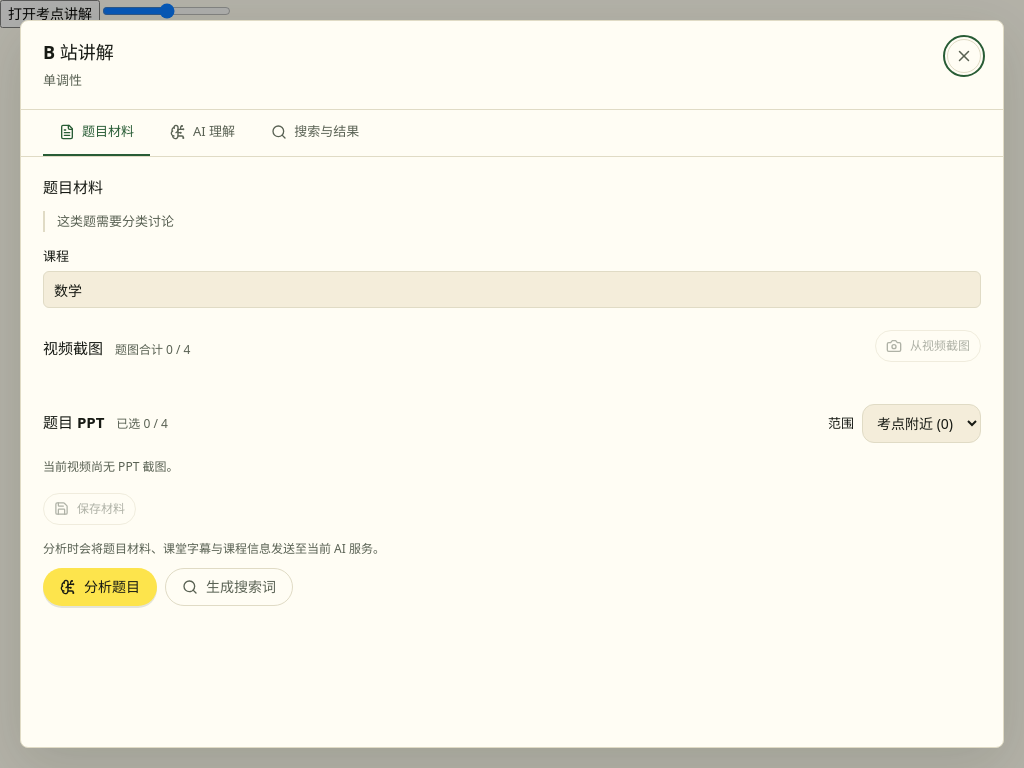
Scenario: question workspace › reports failed requests and permits retry without starting search
This screenshot has width=1024, height=768.
Step 1. Click the button "分析题目" → (100, 587), box [43,568,157,606]
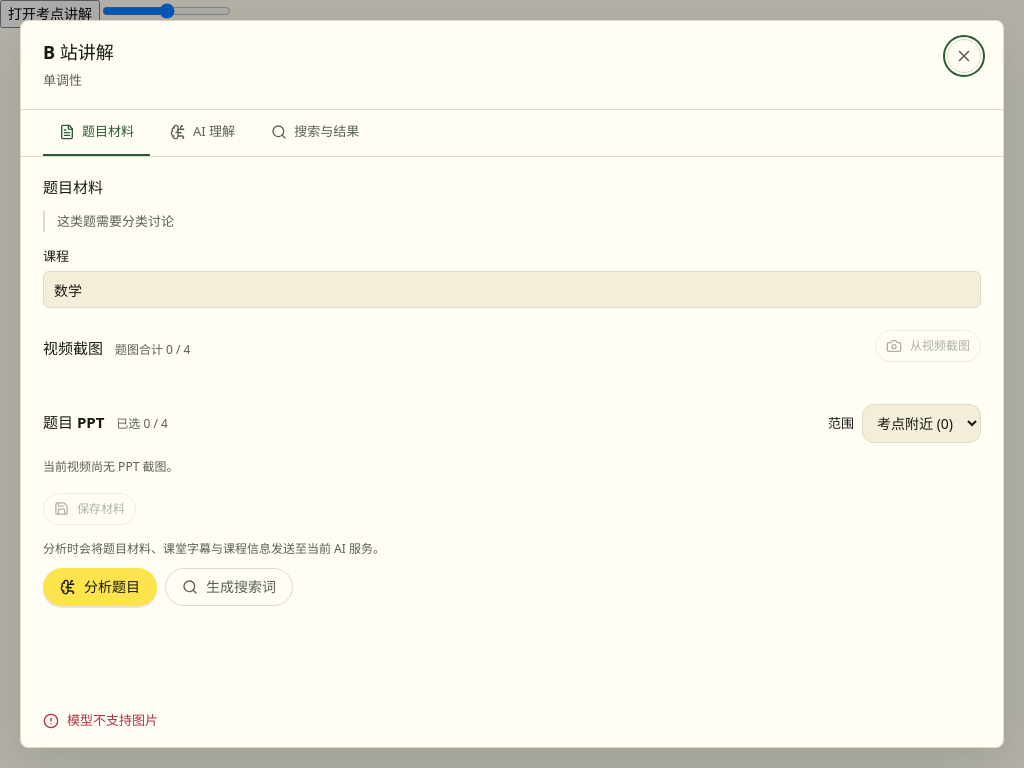
expect the text "模型不支持图片" is shown: met, box [43,711,158,729]
